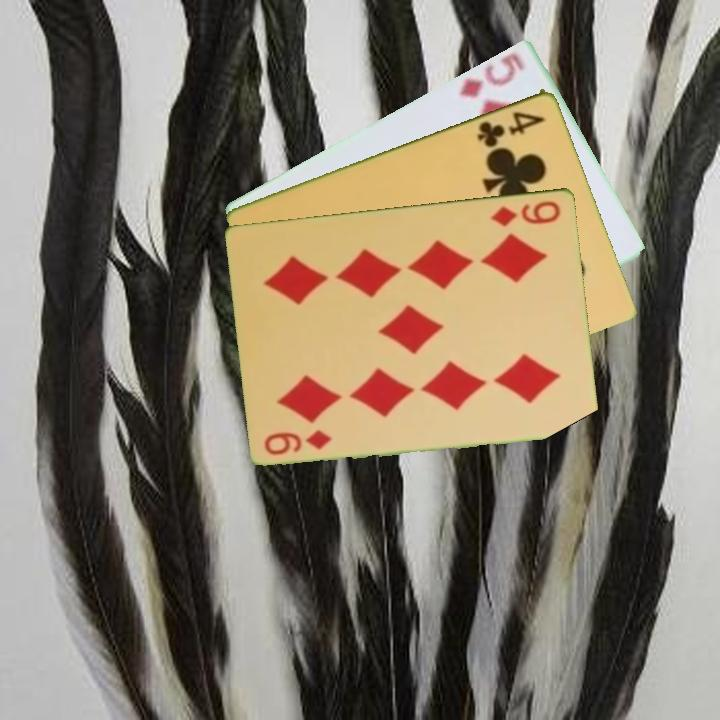4c: (474, 107, 548, 149)
5d: (455, 48, 527, 100)
9d: (488, 197, 564, 230), (261, 425, 335, 458)
